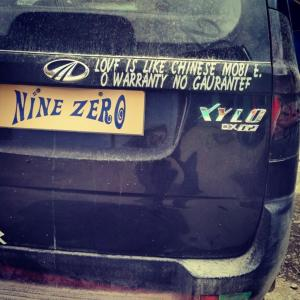Vehicle-registration-plate: (1, 86, 145, 136)
